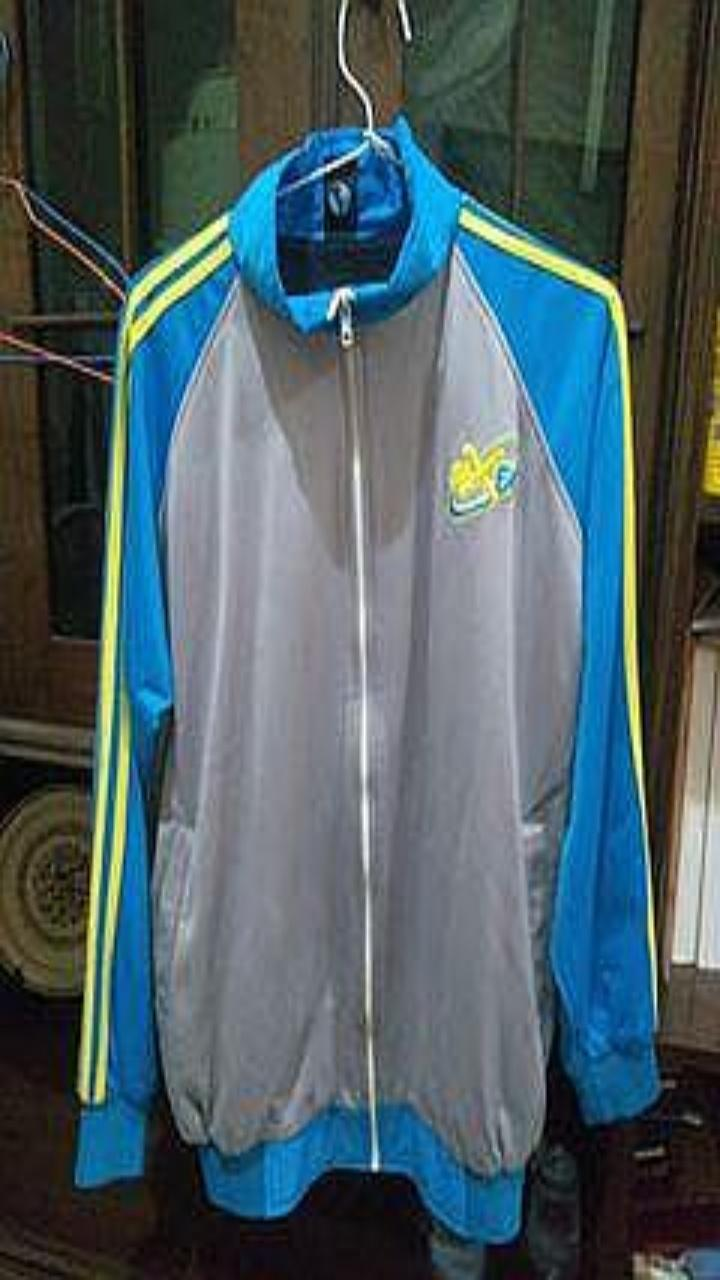Jeans: (430, 1219, 484, 1279)
Sports_Jacket: (76, 117, 656, 1240)
